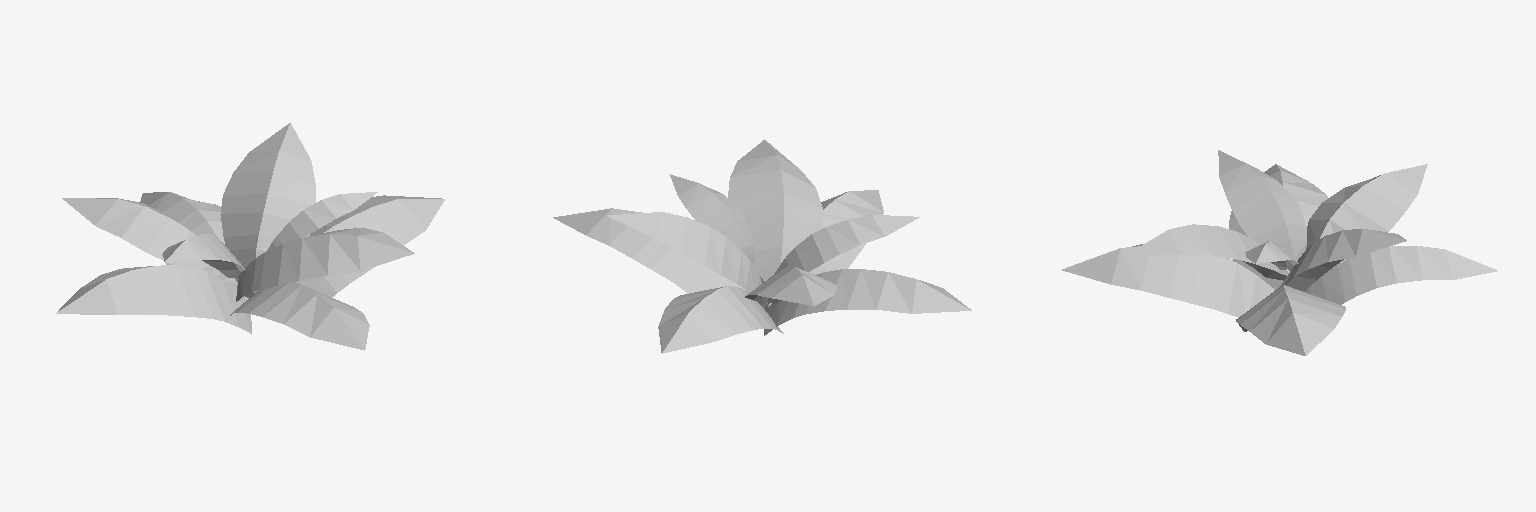
The model's file is Fern_1.obj.
The picture shows the model from 3 angles: view 1: azimuth 30°, elevation 25°; view 2: azimuth 150°, elevation 25°; view 3: azimuth 270°, elevation 25°; orthographic projection.
Visible parts, largest first — view 1: Fern_1; view 2: Fern_1; view 3: Fern_1.
Part boxes in pixels (x1,y1,x2,y2): Fern_1: (56,122,444,350); Fern_1: (553,140,971,353); Fern_1: (1062,150,1497,355).
Size of the model in its own units: 9.05 by 2.69 by 8.49.